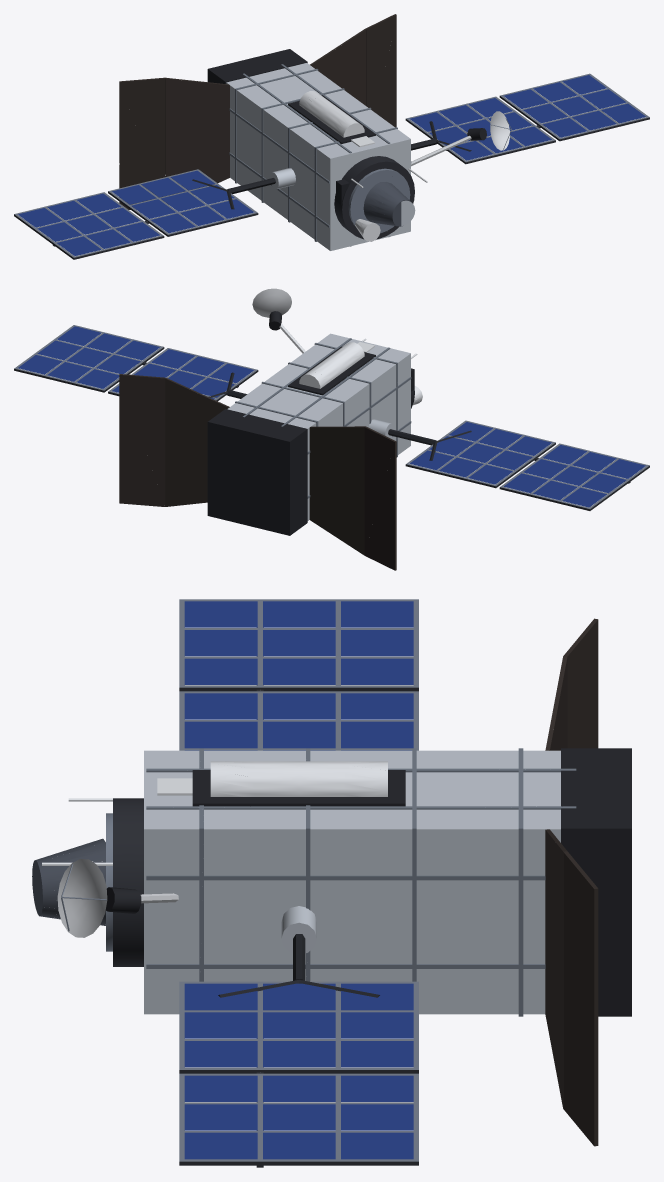
Rendered from sbirs-geo.glb.
The picture shows the model from 3 angles, top to bottom: view 1: azimuth 30°, elevation 25°; view 2: azimuth 150°, elevation 25°; view 3: azimuth 270°, elevation 25°; orthographic projection. The views are drawn at different scales.
Visible parts, largest first — view 1: foil, solar-panel, body; view 2: foil, body, solar-panel; view 3: foil, solar-panel, body.
Boxes of the visible parts, x1,y1,x2,y2 form: foil: (119,14,411,250); solar-panel: (18,75,645,255); body: (14,49,649,259); foil: (119,333,411,570); body: (14,288,649,535); solar-panel: (18,326,645,507); foil: (144,618,598,1146); solar-panel: (184,601,413,1159); body: (32,599,631,1167).
Bounding box in the file's own units: 15 × 3.21 × 6.76.
